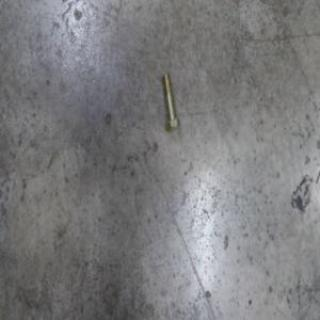Bolttrack_idkeyframe: (161, 73, 179, 134)
